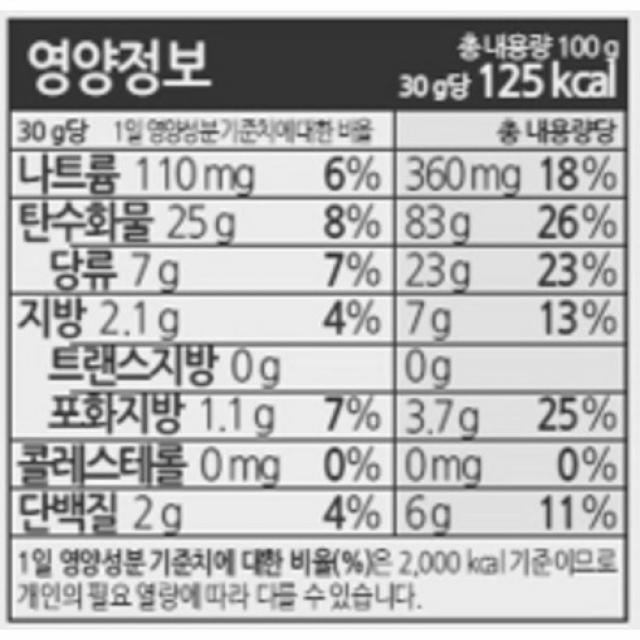Nutrition Label: (1, 9, 640, 632)
